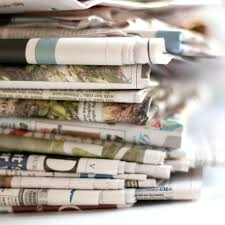paper: (1, 80, 165, 125), (2, 114, 185, 153), (2, 150, 203, 181), (1, 181, 206, 211), (1, 35, 177, 64), (1, 57, 159, 85)
